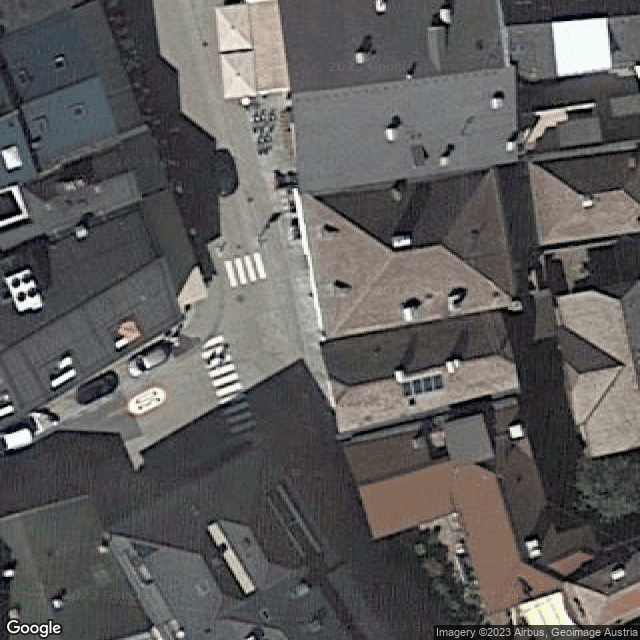dormer: (557, 325, 621, 424)
hip: (591, 281, 639, 301), (263, 562, 293, 590), (216, 593, 246, 620), (328, 377, 351, 408), (496, 337, 514, 365)
obstacles: (47, 353, 80, 393), (114, 318, 144, 351), (1, 390, 18, 420), (165, 617, 188, 639), (444, 292, 463, 314), (524, 538, 543, 558), (390, 232, 413, 248), (399, 303, 417, 323), (444, 357, 463, 375), (507, 423, 527, 440), (293, 581, 313, 597), (383, 127, 400, 144), (437, 8, 454, 24), (353, 51, 371, 65), (609, 567, 627, 581), (373, 1, 389, 16), (488, 96, 504, 111), (502, 140, 518, 154), (390, 190, 406, 204), (392, 369, 406, 385), (50, 596, 66, 610), (6, 607, 22, 620), (409, 437, 423, 451), (437, 155, 451, 168), (96, 543, 111, 555), (2, 567, 17, 579), (581, 200, 595, 211), (74, 229, 89, 239), (245, 631, 261, 640)
ridge: (1, 257, 162, 356), (16, 516, 65, 640), (294, 69, 509, 95), (351, 357, 497, 387), (360, 459, 456, 489), (44, 171, 130, 204), (21, 77, 97, 105), (498, 477, 521, 563), (620, 302, 639, 390), (200, 554, 224, 596), (249, 525, 269, 563), (391, 245, 442, 255), (608, 584, 639, 597), (580, 190, 623, 197), (1, 113, 18, 118)
roof: (104, 440, 393, 640), (342, 402, 605, 617), (278, 1, 517, 191), (1, 206, 184, 430), (299, 169, 516, 339), (320, 311, 523, 433), (1, 495, 153, 640), (1, 11, 118, 187), (1, 141, 141, 257), (556, 280, 640, 456), (526, 153, 640, 243), (571, 552, 640, 628)
valley: (328, 253, 393, 337), (305, 193, 393, 252), (442, 246, 514, 300), (441, 170, 491, 246), (108, 532, 199, 553), (544, 197, 580, 242), (248, 442, 267, 526), (535, 165, 581, 197), (493, 564, 521, 613), (499, 434, 529, 477), (279, 569, 294, 629), (522, 562, 562, 583), (456, 461, 498, 477), (209, 513, 250, 527), (218, 621, 278, 629), (198, 512, 209, 555), (622, 161, 637, 190), (573, 585, 607, 597), (623, 189, 639, 205), (599, 596, 607, 624)
